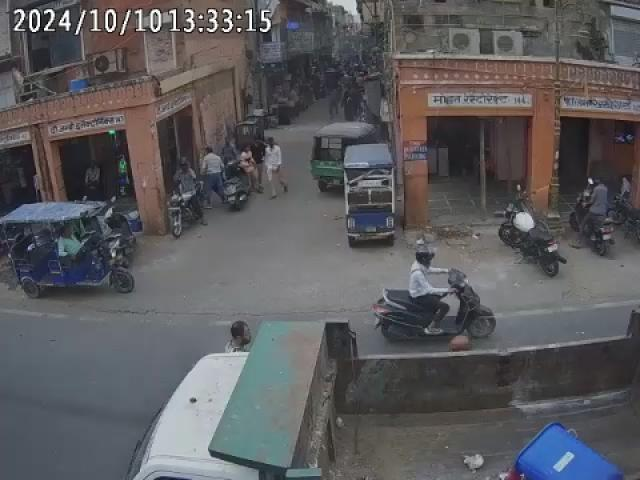auto: (5, 206, 134, 300), (342, 142, 399, 248)
helmet: (414, 241, 437, 266)
motorbike: (498, 199, 566, 277)
motorbike-rider: (165, 158, 205, 234)
person: (198, 146, 228, 205), (262, 138, 285, 194)
scooty-rider: (369, 243, 497, 342), (570, 176, 620, 258), (224, 157, 254, 213)
